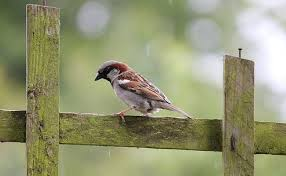hsparrow: (92, 58, 195, 129)
